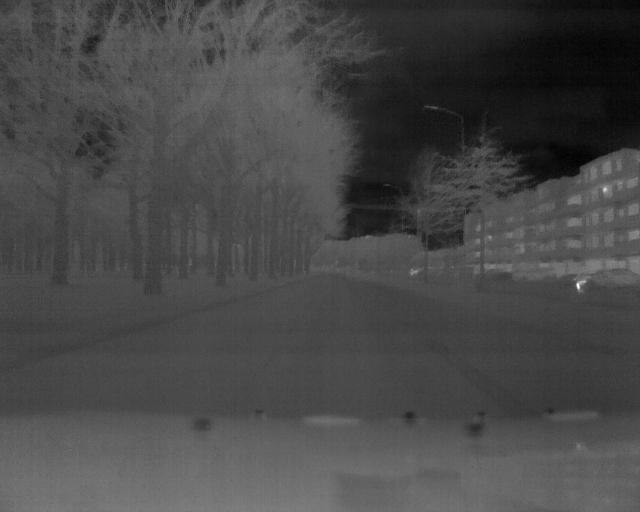person: (573, 271, 588, 297)
